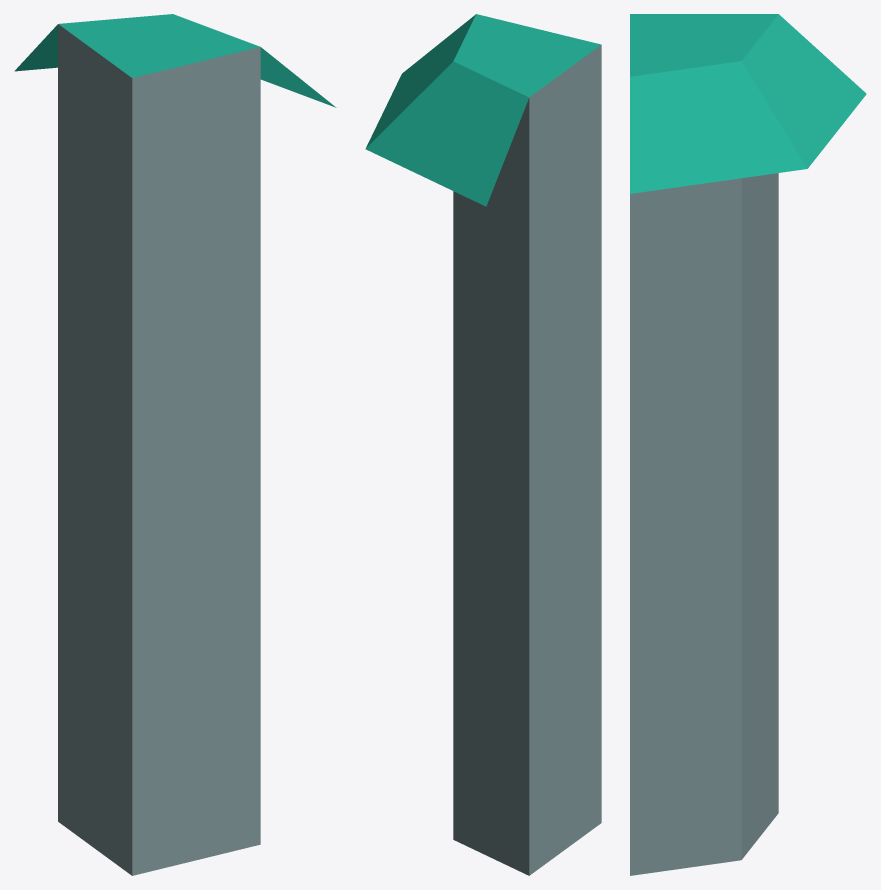
File: cliff_cornerTop_stone.glb
3 views of the same model, side by side, from view 1: azimuth 30°, elevation 25°; view 2: azimuth 150°, elevation 25°; view 3: azimuth 270°, elevation 25° (orthographic). The views are drawn at different scales.
Parts seen in each view (by area): view 1: cliff_cornerTop_stone; view 2: cliff_cornerTop_stone; view 3: cliff_cornerTop_stone.
Part boxes in pixels (x1=…): cliff_cornerTop_stone: x1=14, y1=14, x2=336, y2=875; cliff_cornerTop_stone: x1=365, y1=14, x2=601, y2=875; cliff_cornerTop_stone: x1=630, y1=14, x2=866, y2=875.
Bounding box in the file's own units: 0.2685 × 1 × 0.2685.
